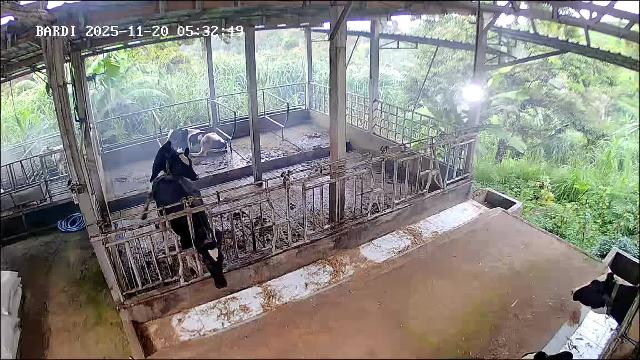mounting: (142, 143, 198, 216)
